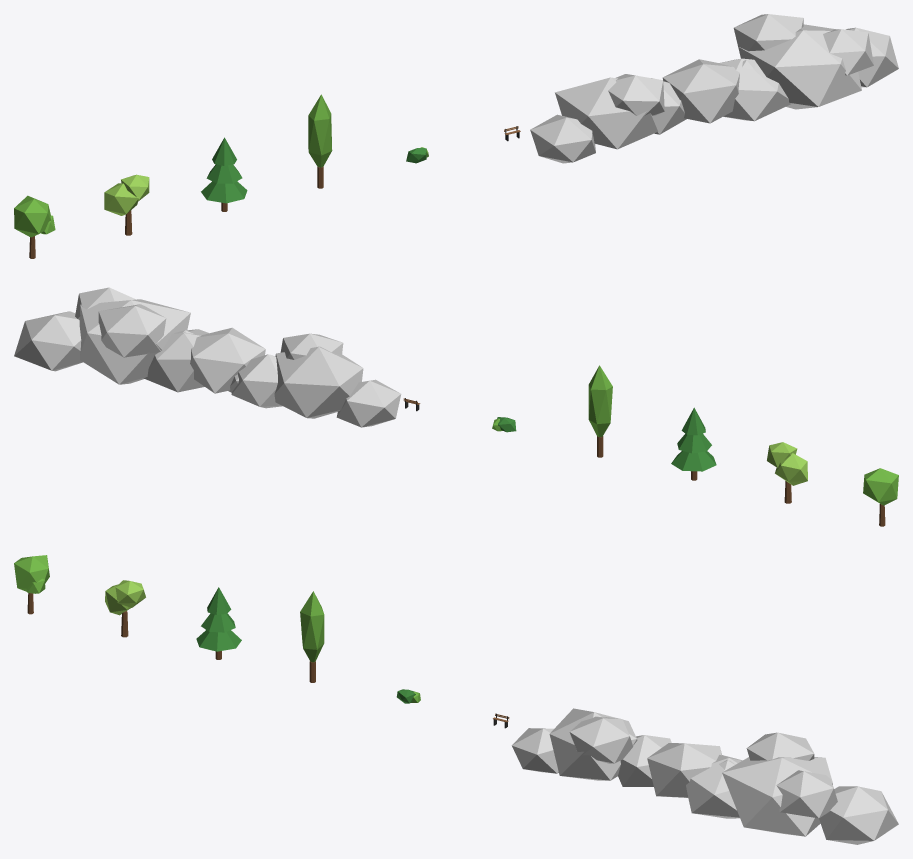
Rendered from nature.glb.
3 views of the same model, one above another, from view 1: azimuth 30°, elevation 25°; view 2: azimuth 150°, elevation 25°; view 3: azimuth 330°, elevation 25° (orthographic). The views are drawn at different scales.
Parts seen in each view (by area): view 1: Cloud3, Cloud1, Cloud2, TreePine, TreePoplar, TreeDouble, TreeRound; view 2: Cloud3, Cloud1, Cloud2, TreePine, TreePoplar, TreeDouble, TreeRound; view 3: Cloud3, Cloud1, Cloud2, TreePine, TreePoplar, TreeRound, TreeDouble.
Part boxes in pixels (<box>): Cloud3: <box>719,14,898,121</box>; Cloud1: <box>530,74,686,163</box>; Cloud2: <box>662,59,755,123</box>; TreePine: <box>201,137,247,211</box>; TreePoplar: <box>308,94,332,188</box>; TreeDouble: <box>104,174,149,235</box>; TreeRound: <box>14,195,55,258</box>; Cloud3: <box>14,287,208,392</box>; Cloud1: <box>231,333,401,427</box>; Cloud2: <box>175,327,265,393</box>; TreePine: <box>671,407,716,480</box>; TreePoplar: <box>588,365,612,457</box>; TreeDouble: <box>767,442,807,503</box>; TreeRound: <box>863,468,898,526</box>; Cloud3: <box>686,732,898,844</box>; Cloud1: <box>511,708,671,786</box>; Cloud2: <box>647,743,735,797</box>; TreePine: <box>196,587,241,659</box>; TreePoplar: <box>300,591,324,682</box>; TreeRound: <box>14,555,49,614</box>; TreeDouble: <box>105,580,145,637</box>.
Bounding box in the file's own units: 110 × 15.95 × 13.11.
